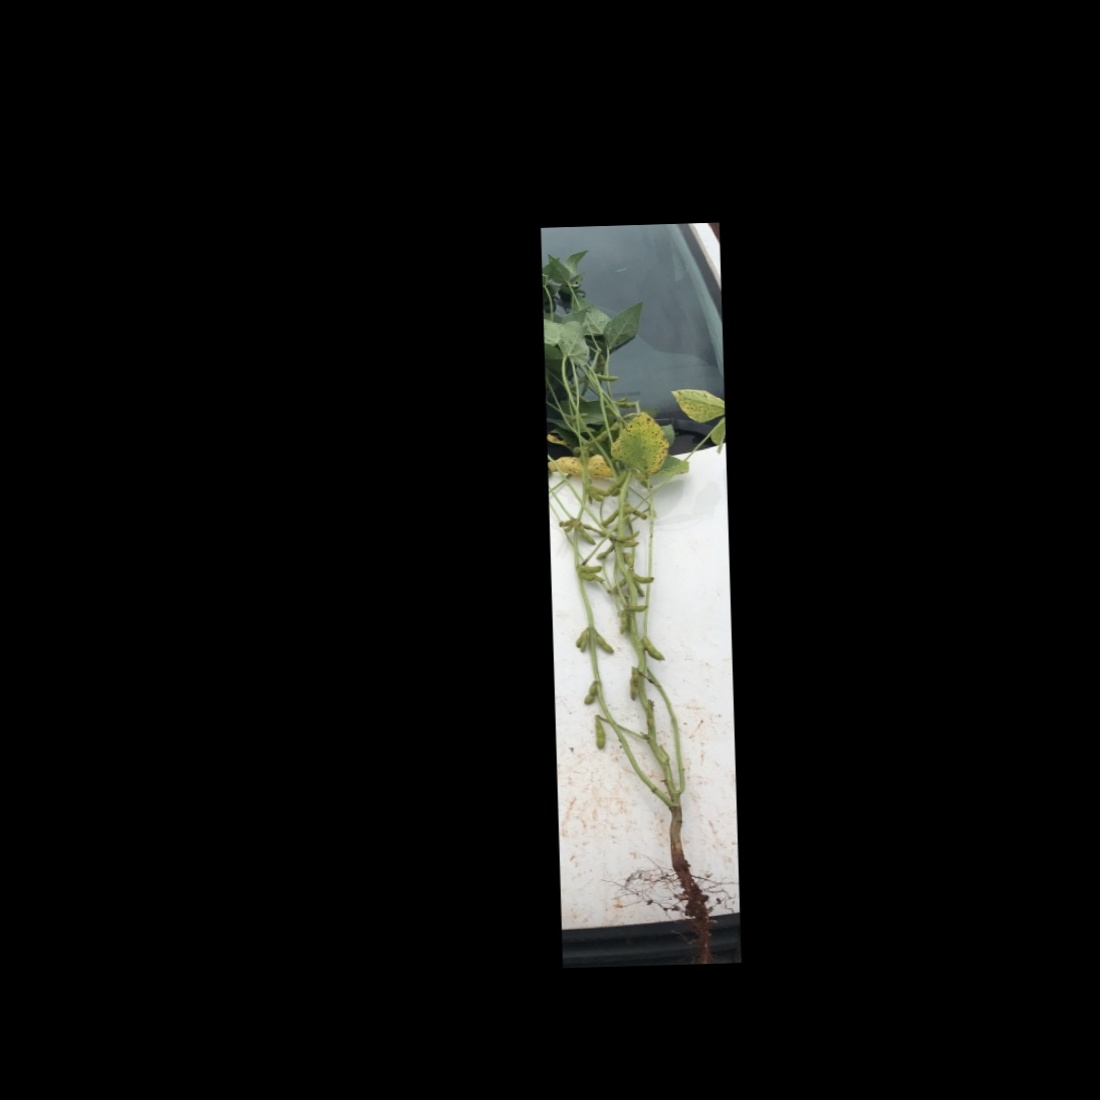pod: (644, 635, 667, 662), (592, 715, 608, 752), (579, 679, 599, 708), (576, 522, 597, 547), (594, 630, 614, 656), (585, 480, 606, 503), (597, 507, 618, 527), (577, 564, 606, 576), (631, 571, 655, 585)
soy: (546, 266, 738, 925)
